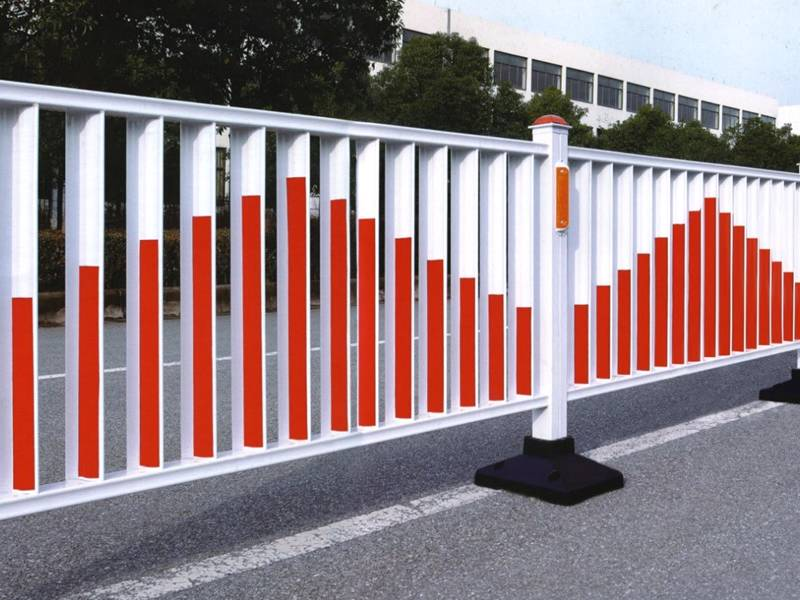Fence: (21, 150, 800, 506)
